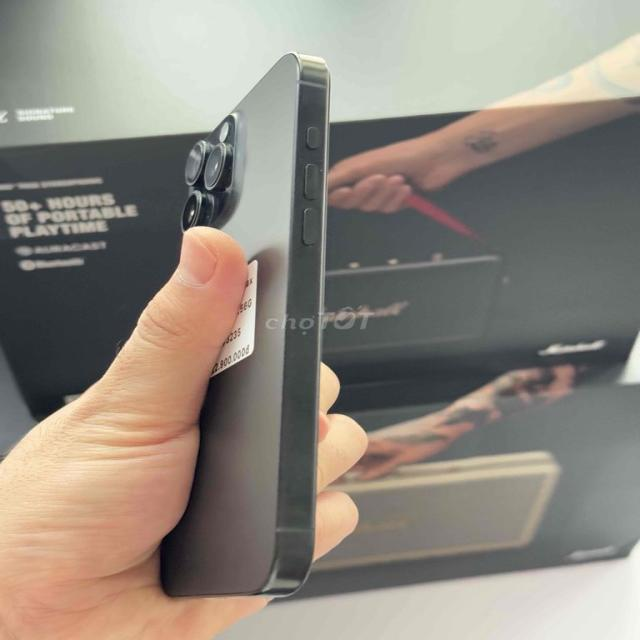gen_16: (162, 54, 329, 596)
